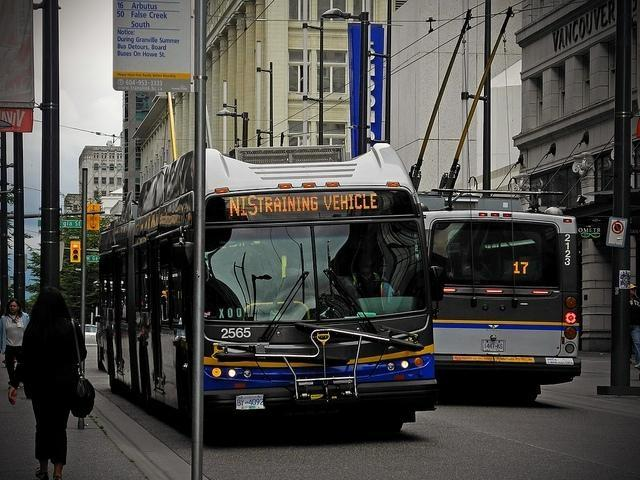bus: (94, 138, 462, 432), (427, 210, 577, 404)
car: (85, 324, 96, 348)
